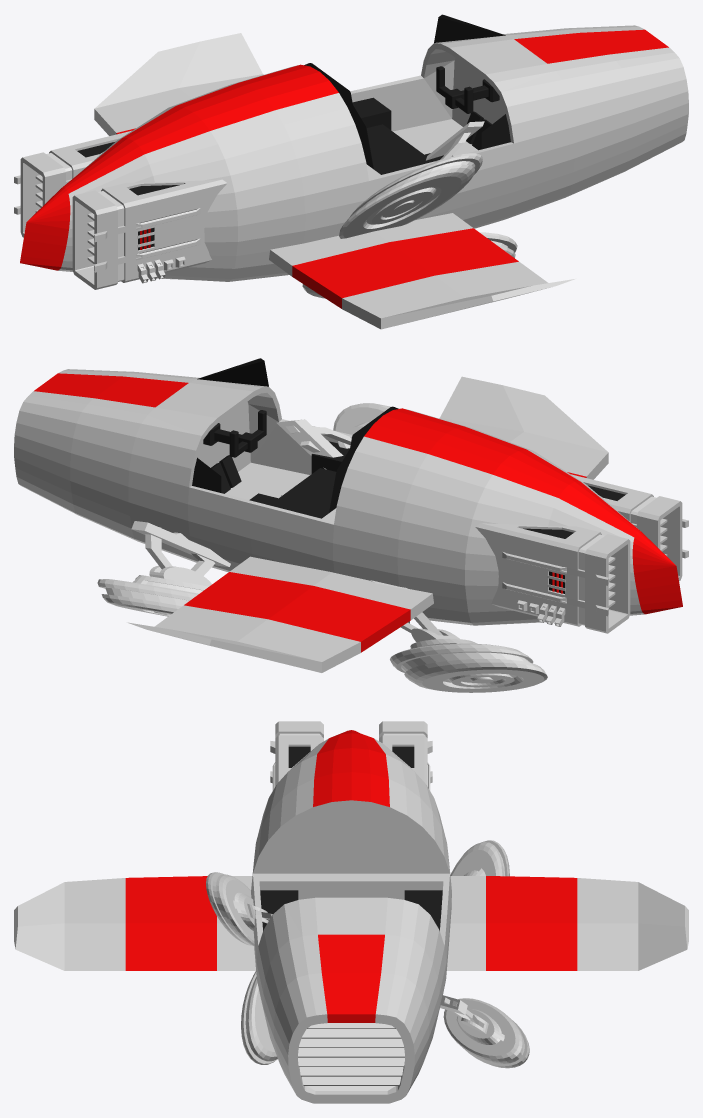
File: Chroma Jetracer.fbx
3 views of the same model, one above another, from view 1: azimuth 30°, elevation 25°; view 2: azimuth 150°, elevation 25°; view 3: azimuth 270°, elevation 25° (orthographic).
Parts seen in each view (by area): view 1: Body, Wings, Engine, Hover Engine FL, Seat, Control Handles, Hover Engine BL; view 2: Body, Wings, Engine, Hover Engine FL, Hover Engine BL, Seat, Control Handles; view 3: Body, Wings, Hover Engine FL, Engine, Hover Engine BL, Seat.
Boxes of the visible parts, x1,y1,x2,y2 form: Body: (20,14,688,281); Wings: (94,33,574,329); Engine: (14,130,227,289); Hover Engine FL: (339,121,484,238); Seat: (304,63,510,174); Control Handles: (436,66,488,113); Hover Engine BL: (302,232,517,298); Body: (14,358,682,625); Wings: (127,376,608,672); Engine: (475,474,688,633); Hover Engine FL: (97,403,399,616); Hover Engine BL: (281,495,547,692); Seat: (192,406,398,518); Control Handles: (214,410,266,457); Body: (251,730,451,1103); Wings: (14,876,688,970); Hover Engine FL: (206,872,529,1068); Engine: (270,721,432,790); Hover Engine BL: (241,840,509,1064); Seat: (260,890,442,930).
Bounding box in the file's own units: 756 × 252 × 692.
